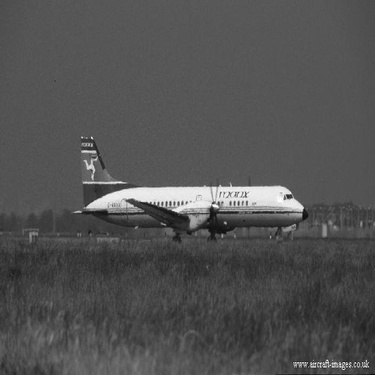airplane: (47, 112, 322, 259)
